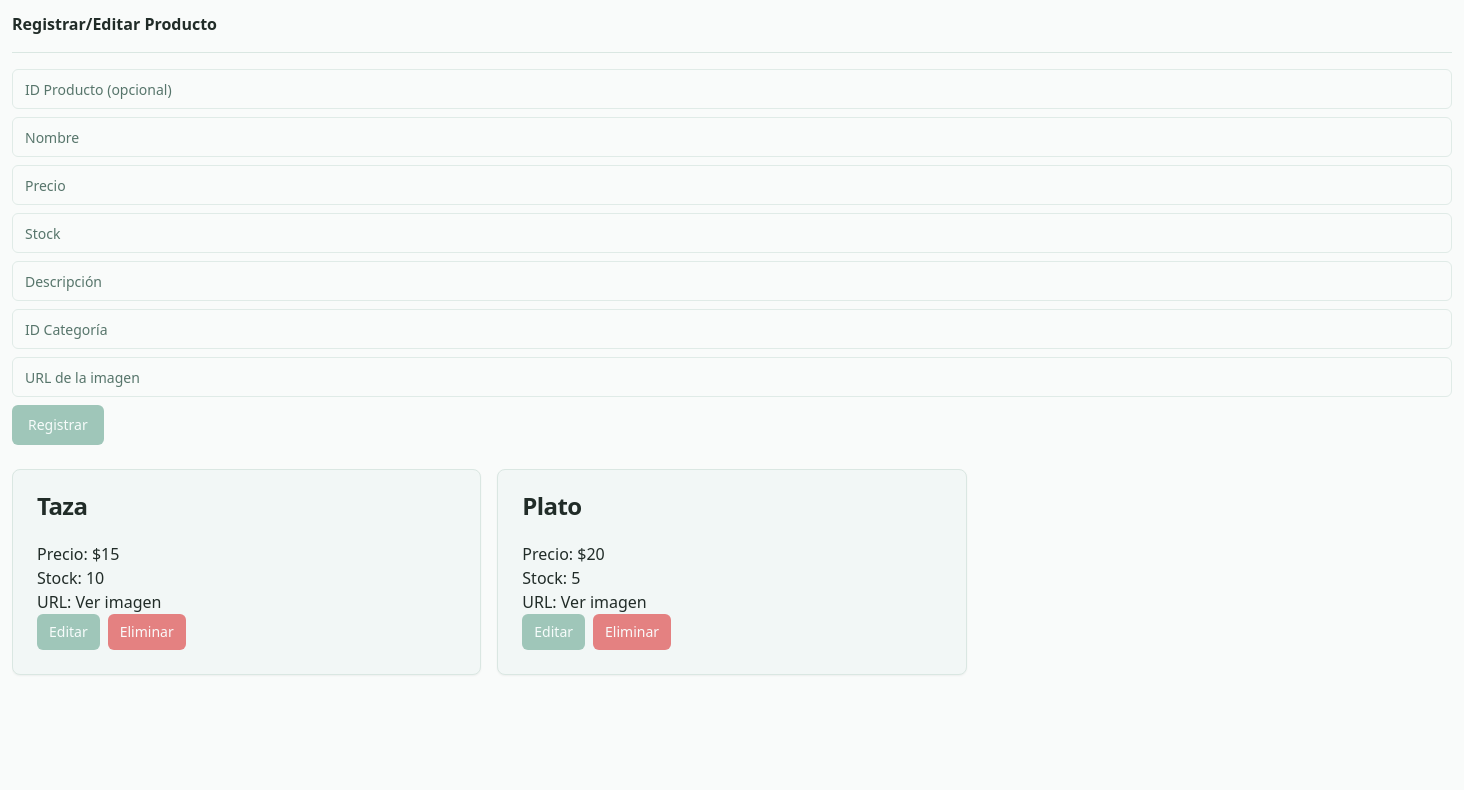
Test: RegisterProductSection › abre el formulario de edición con los datos del producto
Expected: the heading "Taza" is shown, [37, 489, 87, 522]
Step 1. Click the button "Editar" below "10" → (68, 632), box [37, 614, 100, 650]
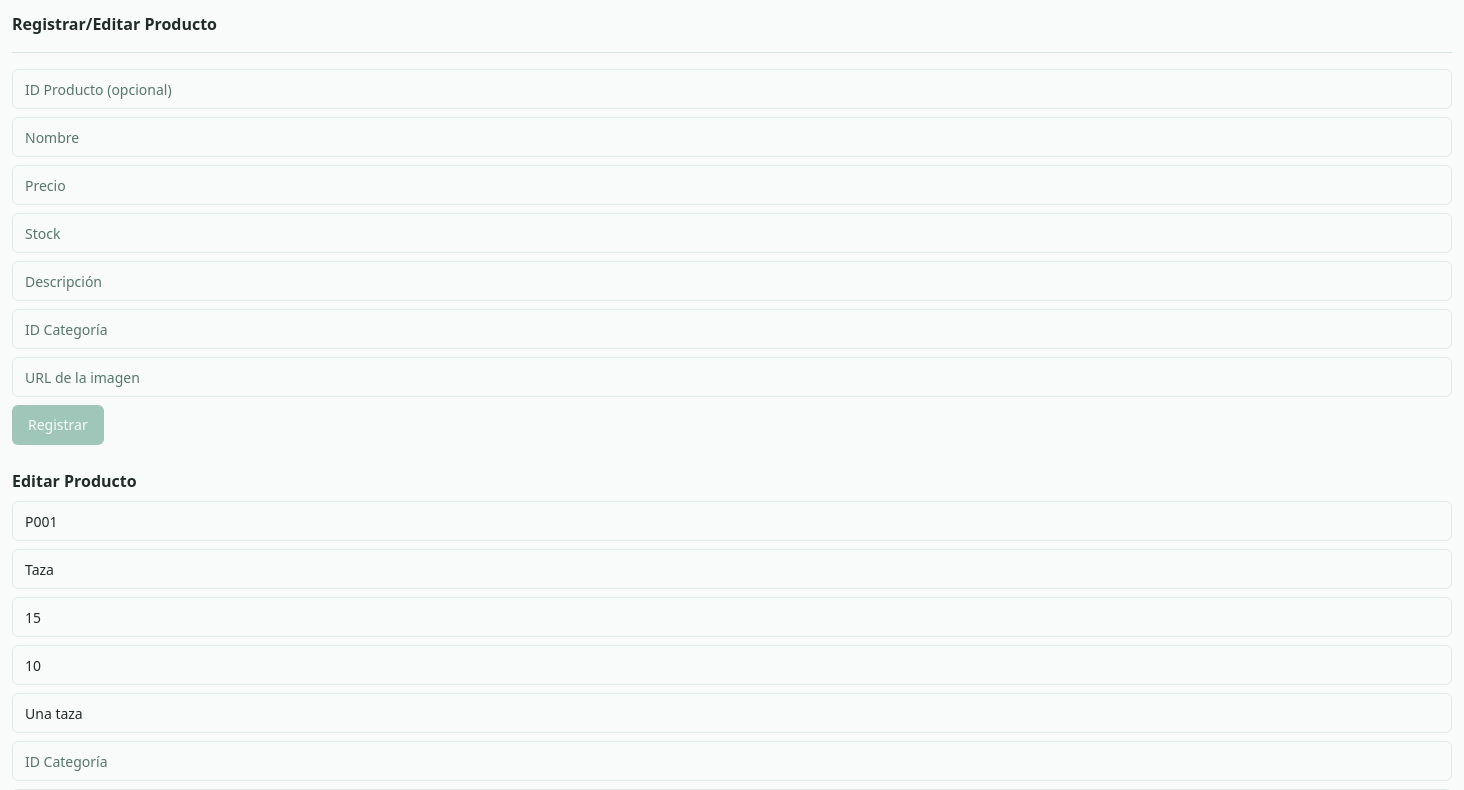
Expected: the heading "Editar Producto" is shown, [12, 470, 137, 492]
Expected: the 2nd field showing "Taza" is shown, [12, 549, 1452, 589]
